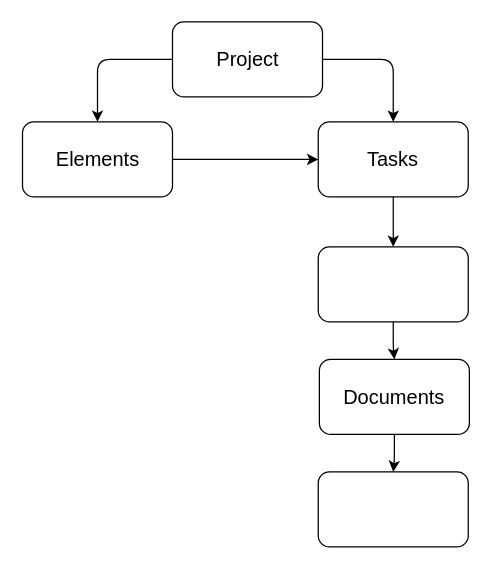
The diagram is 491 pixels wide and 569 high, and some of its shapes have lost their labels. The box of each missing label's shape, as (x1, y1, x2, y2) in pixels:
Contributor Team: (317, 246, 468, 322)
Metadata: (317, 471, 468, 547)
